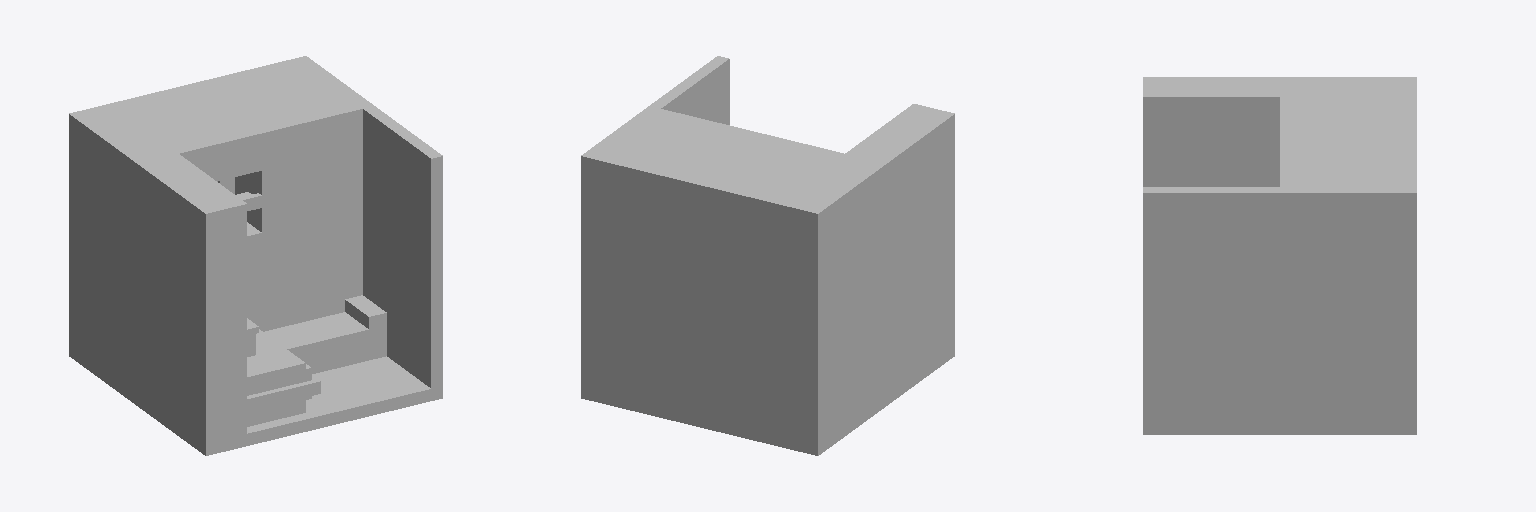
The model's file is room.obj.
3 views of the same model, side by side, from view 1: azimuth 30°, elevation 25°; view 2: azimuth 150°, elevation 25°; view 3: azimuth 270°, elevation 25° (orthographic).
Bounding box in the file's own units: 40 × 39 × 40.